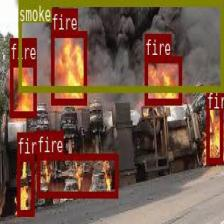fire: (36, 152, 118, 196), (51, 30, 86, 104), (144, 55, 181, 103), (10, 59, 36, 116), (206, 86, 222, 163), (17, 154, 34, 215)
smoke: (17, 0, 222, 90)
